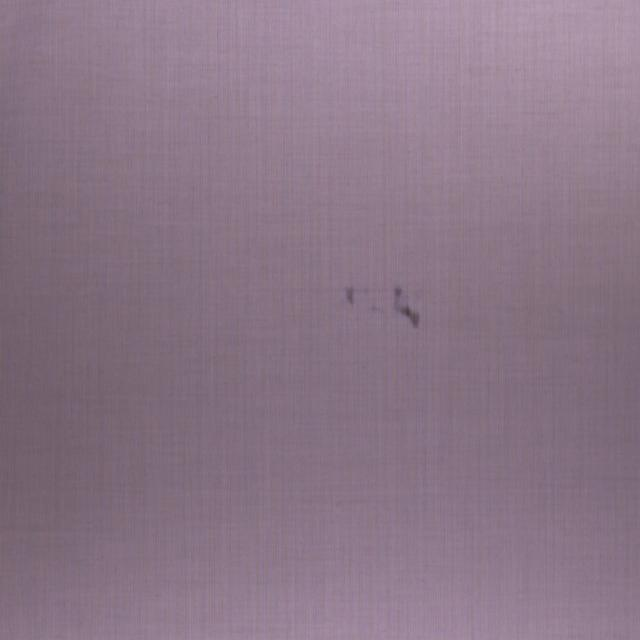dirty: (393, 284, 423, 334), (345, 282, 358, 306)
